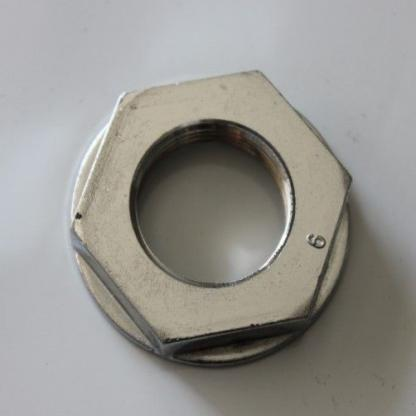FOD: (65, 67, 359, 367)
